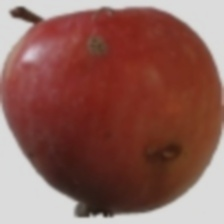apple: (23, 0, 211, 199)
